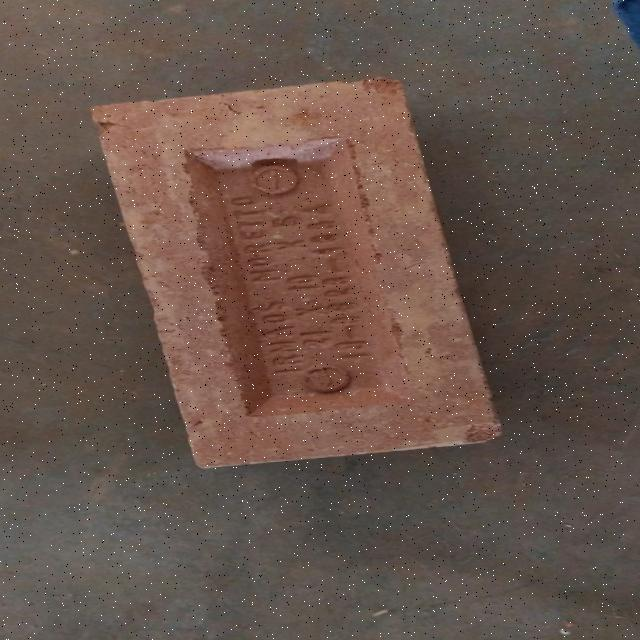bricks: (82, 77, 500, 469)
